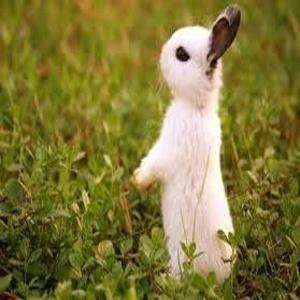rabbit: (134, 6, 238, 281)
